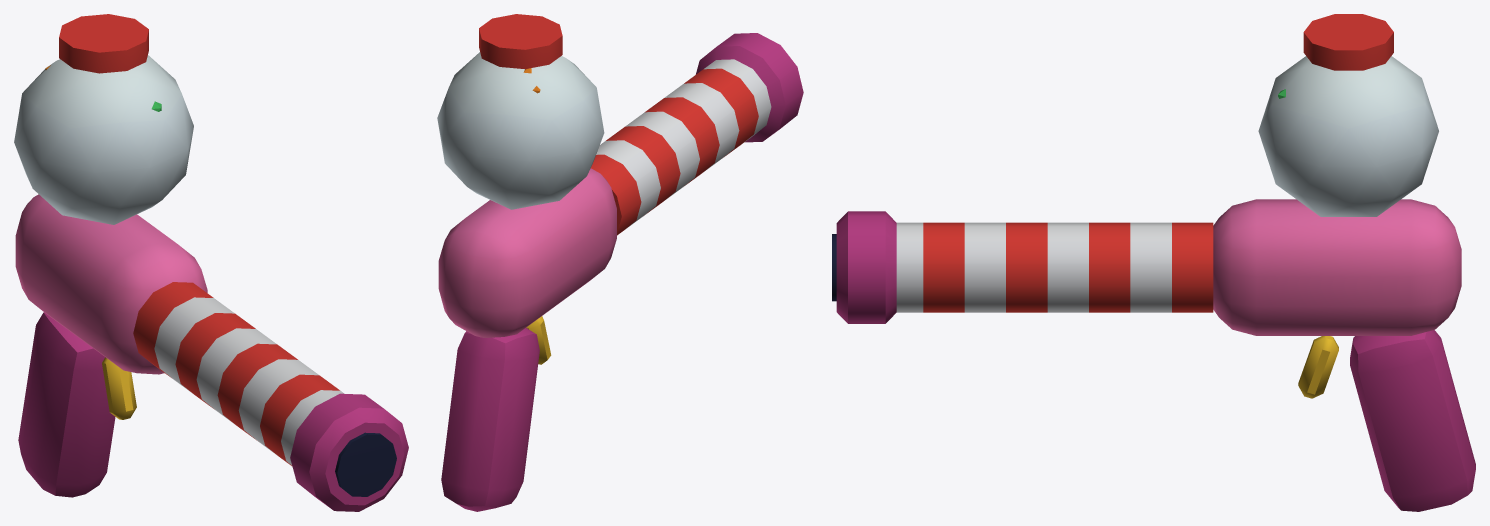
Rendered from w_g_candy.glb.
3 renders of one model, left to right at view 1: azimuth 30°, elevation 25°; view 2: azimuth 150°, elevation 25°; view 3: azimuth 270°, elevation 25°, orthographic. The views are drawn at different scales.
Visible parts, largest first — view 1: body; view 2: body; view 3: body.
Part boxes in pixels (x1,y1,x2,y2): body: (14,14,408,511); body: (437,14,803,511); body: (832,14,1475,511).
Size of the model in its own units: 0.194 by 0.592 by 0.7264.
